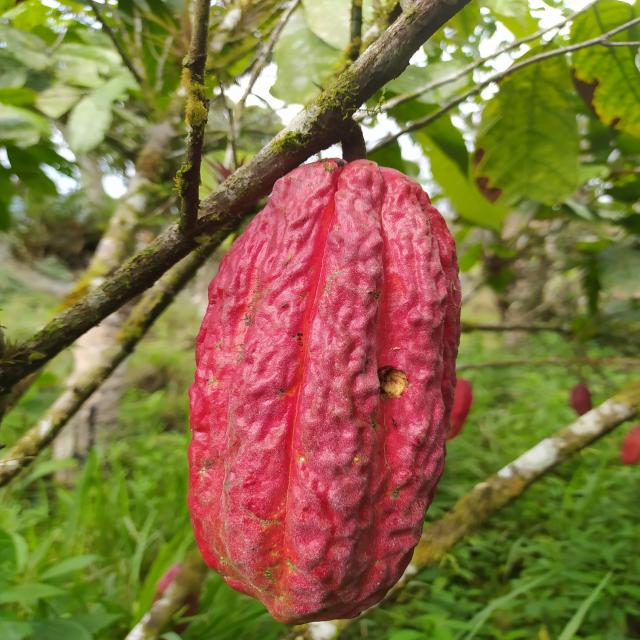Sana: (186, 157, 462, 629)
